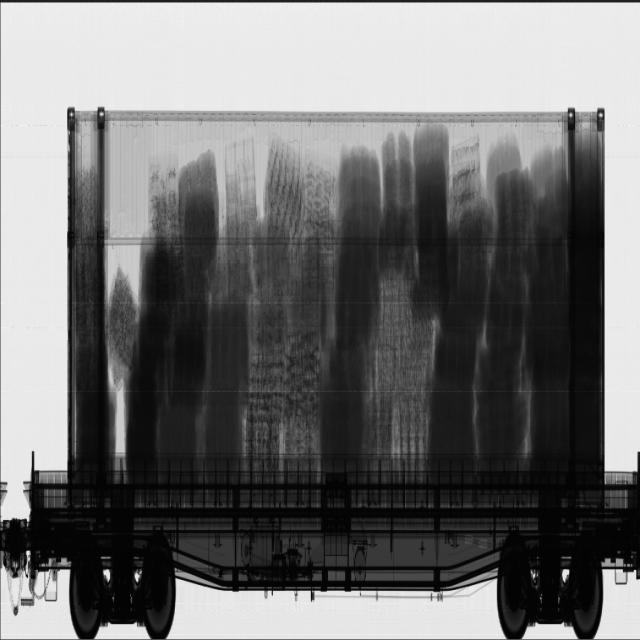clothes: (321, 122, 604, 471)
shoes: (225, 138, 337, 452), (369, 279, 435, 454), (450, 136, 483, 203)
texstiles: (125, 151, 246, 454)
